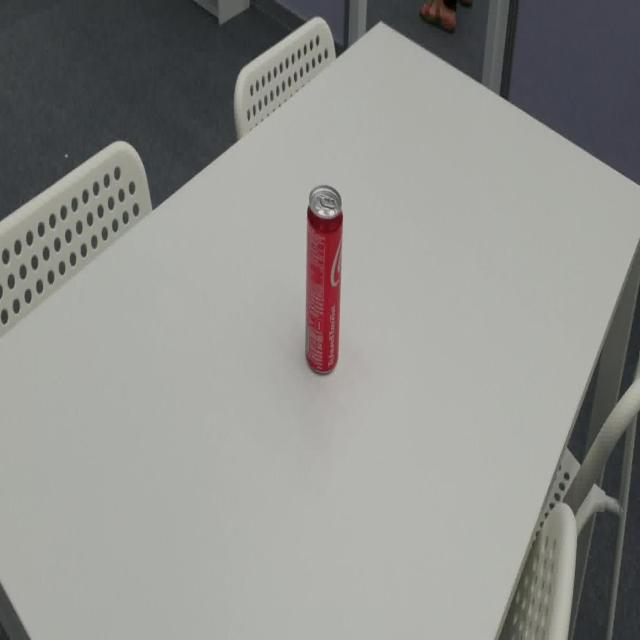coca-cola: (302, 181, 344, 382)
